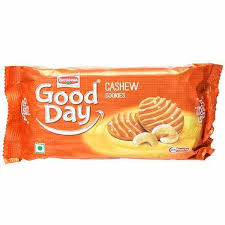gooday-small: (8, 66, 213, 161)
